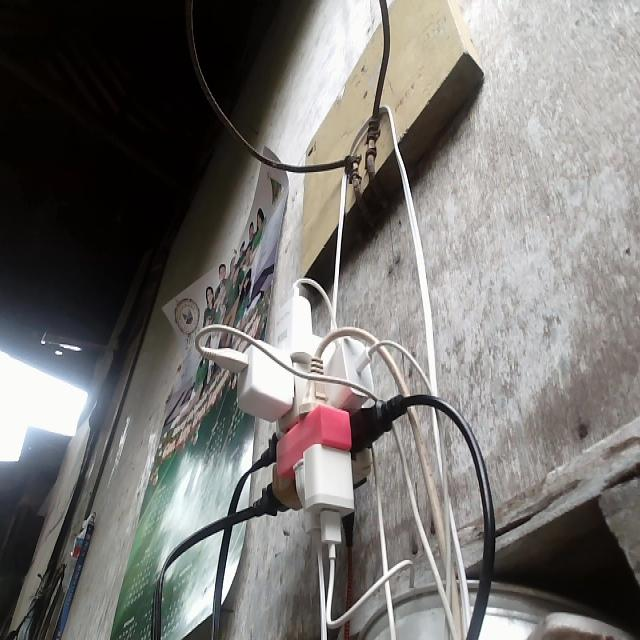-: (193, 276, 414, 560)
